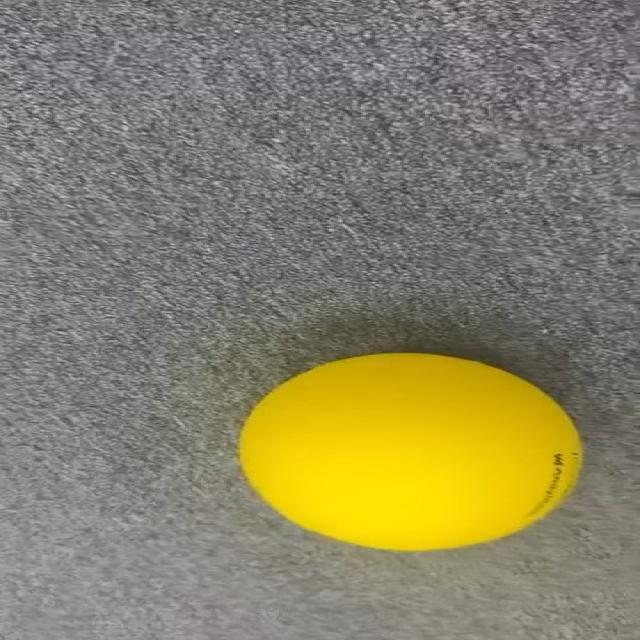Fuels: (240, 353, 580, 550)
